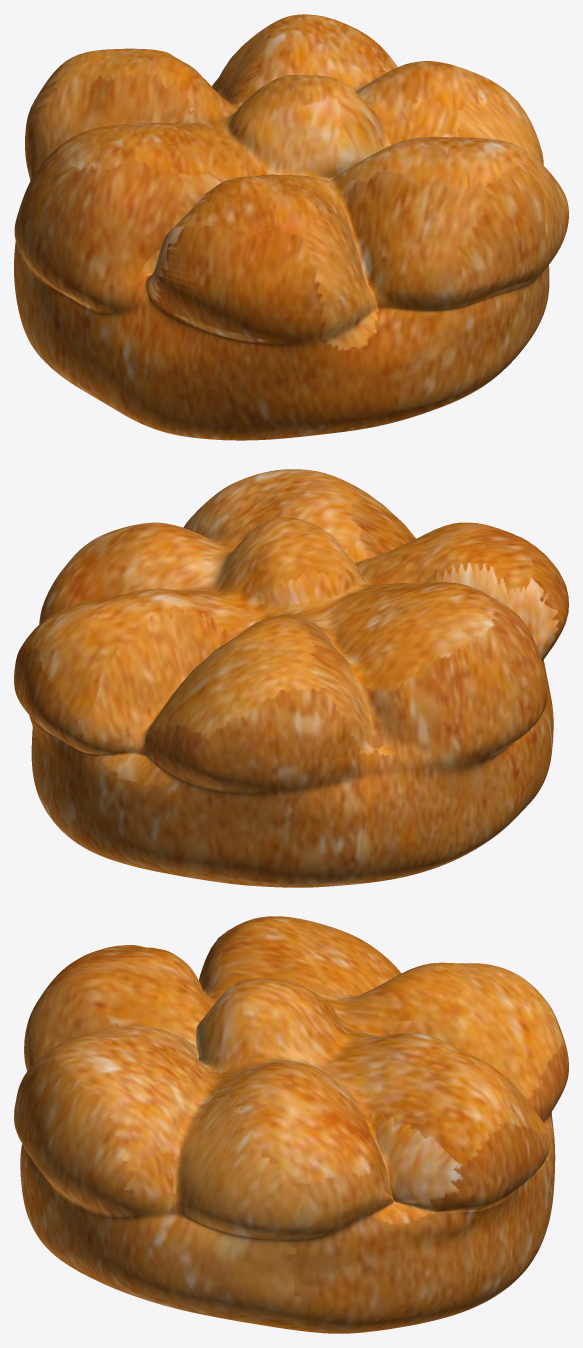
Rendered from pitka.fbx.
3 views of the same model, one above another, from view 1: azimuth 30°, elevation 25°; view 2: azimuth 150°, elevation 25°; view 3: azimuth 270°, elevation 25° (orthographic). The views are drawn at different scales.
Parts seen in each view (by area): view 1: Pitka; view 2: Pitka; view 3: Pitka.
Boxes of the visible parts, box(x1,y1,x2,y2) form: Pitka: box(14, 14, 568, 440); Pitka: box(14, 469, 568, 887); Pitka: box(14, 916, 568, 1333).
Bounding box in the file's own units: 51.81 × 29.98 × 52.32.
